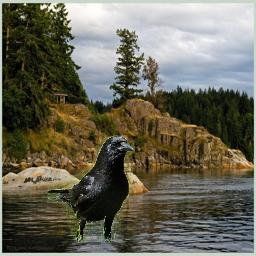Crow: (47, 135, 135, 242)
